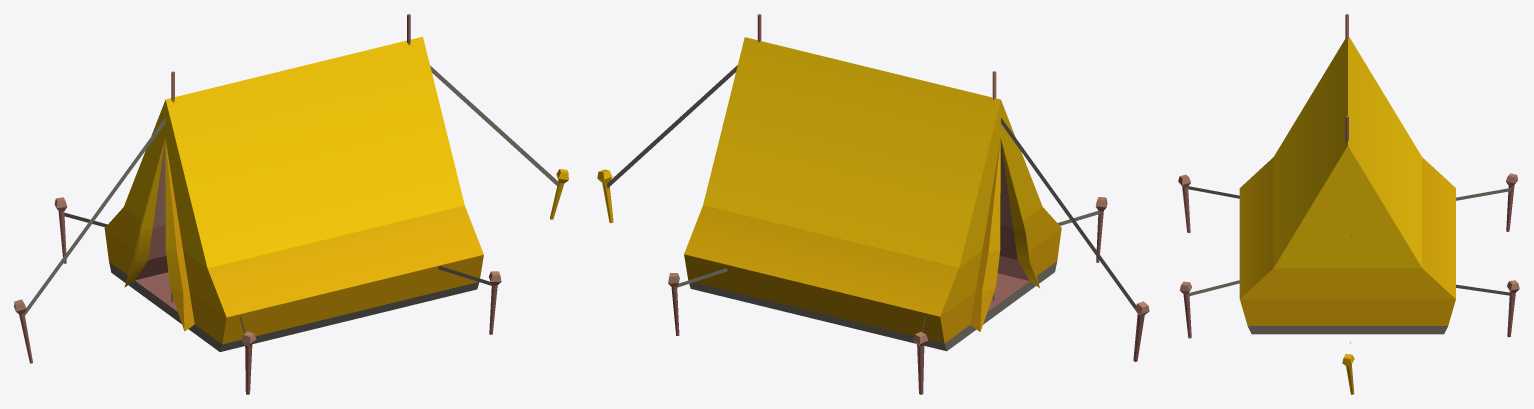
File: tent.glb
3 renders of one model, left to right at view 1: azimuth 30°, elevation 25°; view 2: azimuth 150°, elevation 25°; view 3: azimuth 270°, elevation 25°, orthographic. The views are drawn at different scales.
Visible parts, largest first — view 1: Tent.001; view 2: Tent.001; view 3: Tent.001.
Part boxes in pixels (x1,y1,x2,y2): Tent.001: (14,14,568,394); Tent.001: (597,14,1149,394); Tent.001: (1178,14,1519,394).
Bounding box in the file's own units: 4.18 × 1.85 × 2.53.
